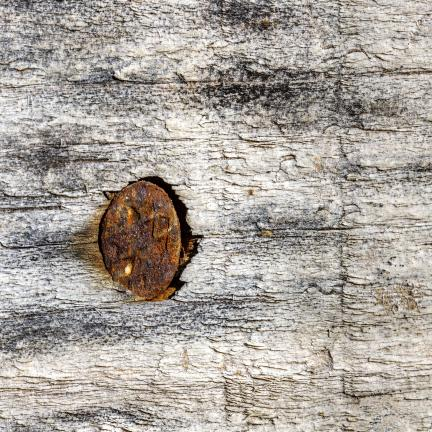karat: (102, 182, 180, 299)
